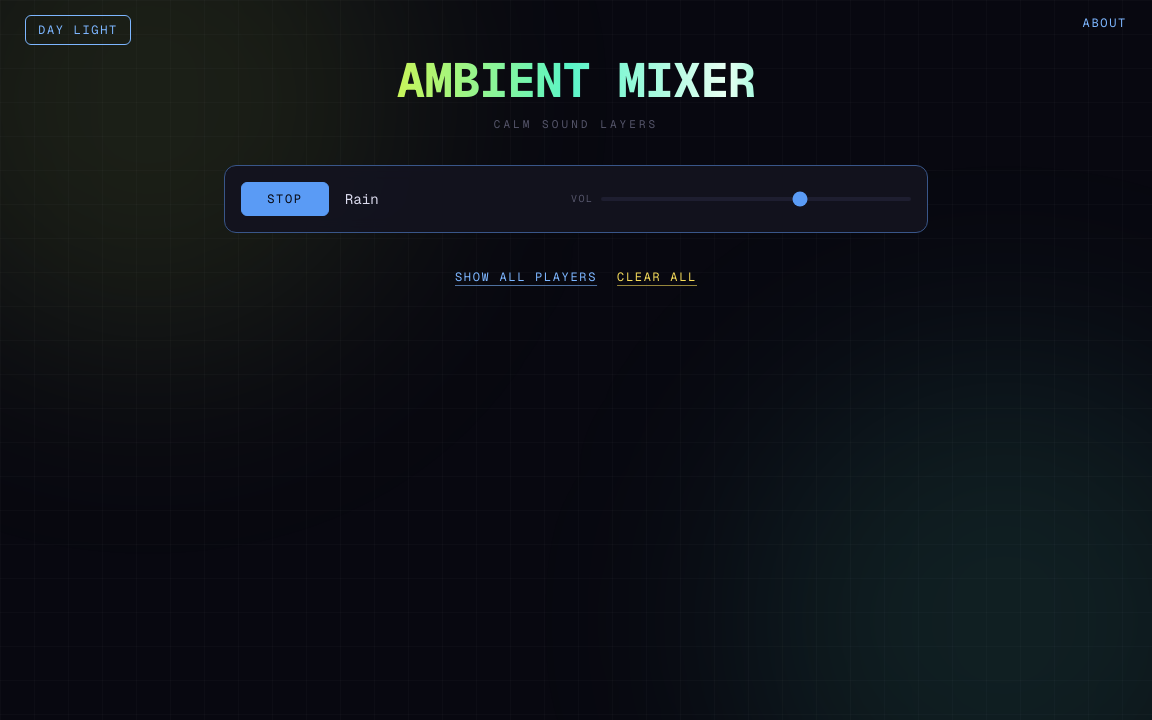
Test case: Home page audio state logic › shows clear all for used tracks and hides it again after clearing
Click the button "Clear all": (657, 276) [617,268,697,284]
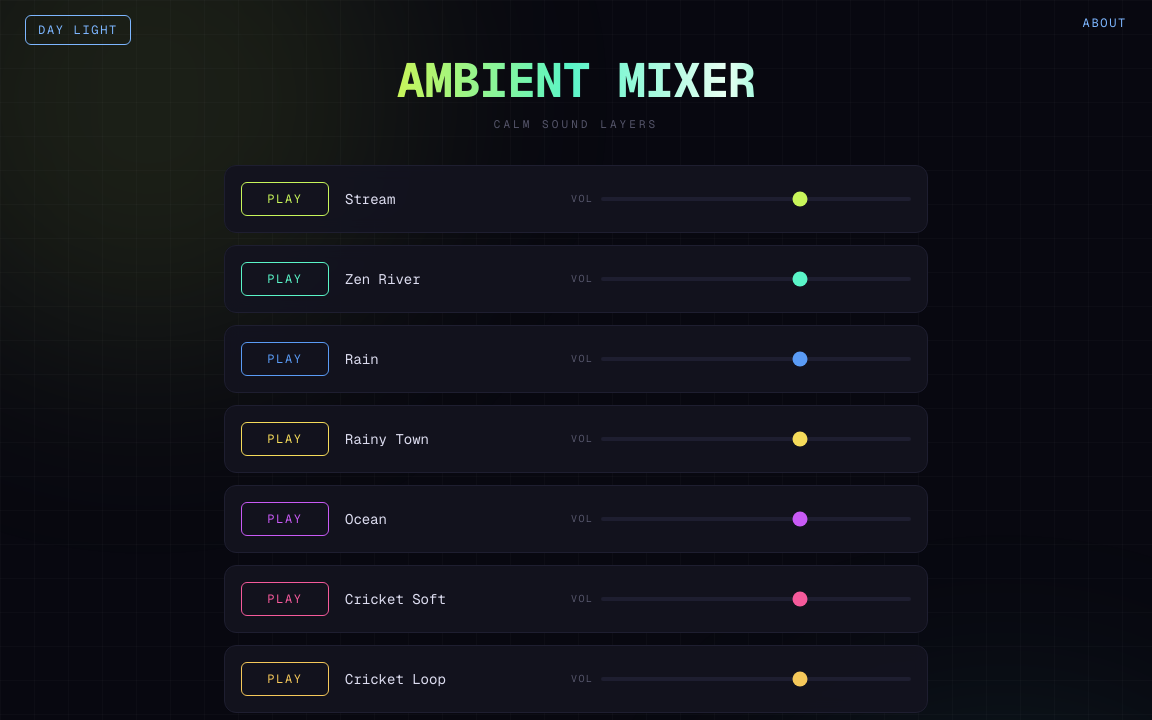
Result: the button "Clear all" is gone
